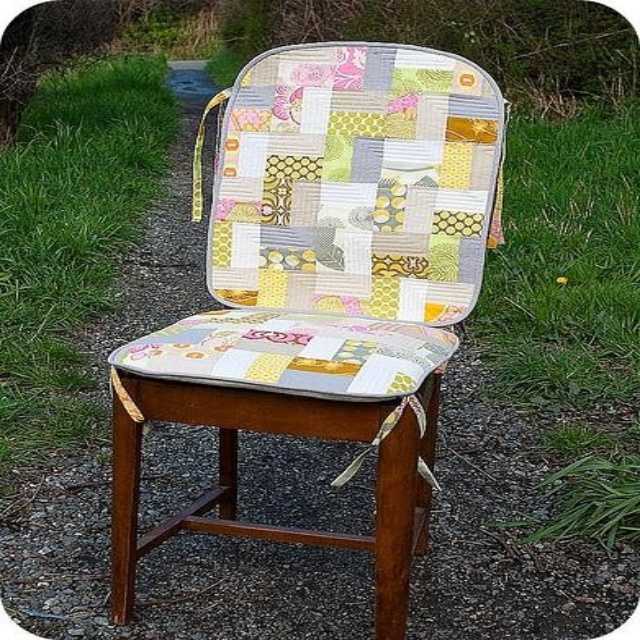obstacle: (110, 42, 503, 639)
